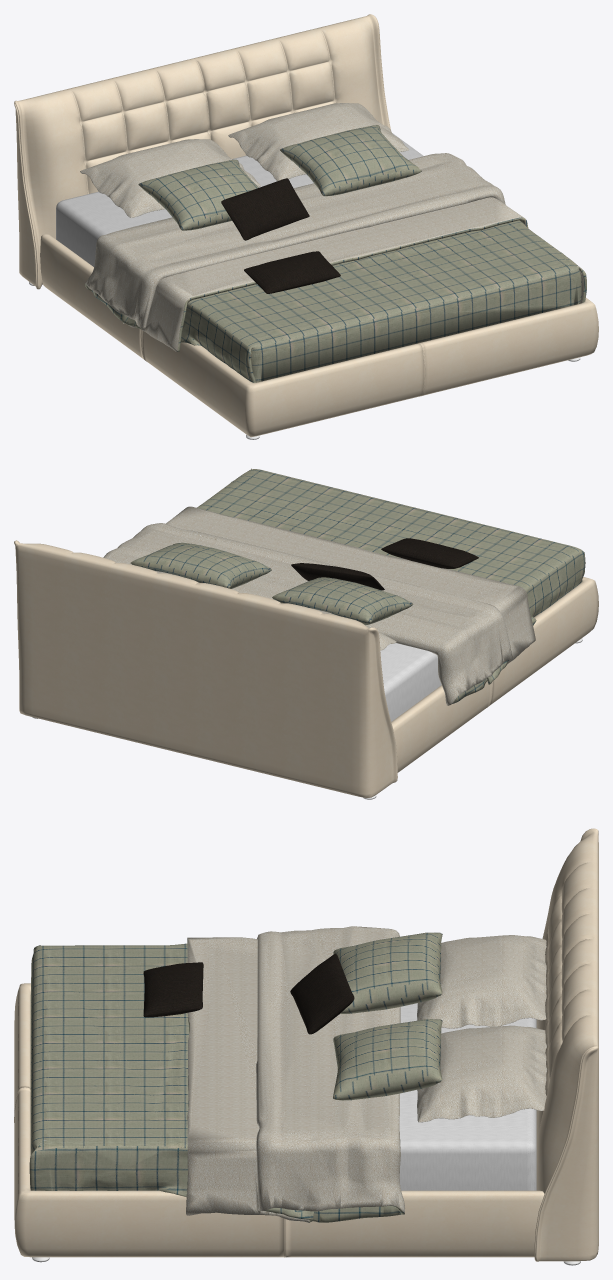
The model's file is morden-bed.glb.
3 views of the same model, one above another, from view 1: azimuth 30°, elevation 25°; view 2: azimuth 150°, elevation 25°; view 3: azimuth 270°, elevation 25° (orthographic). The views are drawn at different scales.
Visible parts, largest first — view 1: Cube.005, Cube.001, Cube.003, perna_mica.002, perna_infasata.001, perna_infasata.002, Cube.002, perna_mica.001, perna_medie.002, perna_medie; view 2: Cube.001, Cube.005, Cube.003, perna_mica.001, perna_mica.002, Cube.002, perna_medie, perna_medie.002; view 3: Cube.005, Cube.003, Cube.001, Cube.002, perna_infasata.002, perna_infasata.001, perna_mica.002, perna_mica.001, perna_medie.002, perna_medie.
Part boxes in pixels (<box>): Cube.005: <box>85,153,586,382</box>; Cube.001: <box>14,14,390,289</box>; Cube.003: <box>40,234,598,437</box>; perna_mica.002: <box>280,125,421,196</box>; perna_infasata.001: <box>80,139,260,217</box>; perna_infasata.002: <box>228,103,408,180</box>; Cube.002: <box>56,133,568,266</box>; perna_mica.001: <box>138,159,258,230</box>; perna_medie.002: <box>221,178,309,240</box>; perna_medie: <box>244,251,340,293</box>; Cube.001: <box>14,540,397,797</box>; Cube.005: <box>103,468,585,705</box>; Cube.003: <box>391,577,598,772</box>; perna_mica.001: <box>272,577,413,625</box>; perna_mica.002: <box>130,542,271,588</box>; Cube.002: <box>380,643,441,721</box>; perna_medie: <box>381,538,478,568</box>; perna_medie.002: <box>291,563,384,590</box>; Cube.005: <box>29,926,404,1222</box>; Cube.003: <box>14,983,544,1257</box>; Cube.001: <box>534,828,598,1261</box>; Cube.002: <box>44,1003,536,1190</box>; perna_infasata.002: <box>417,1025,547,1122</box>; perna_infasata.001: <box>417,935,546,1028</box>; perna_mica.002: <box>333,1019,442,1100</box>; perna_mica.001: <box>333,932,442,1013</box>; perna_medie.002: <box>290,953,354,1034</box>; perna_medie: <box>143,962,203,1017</box>.
Bounding box in the file's own units: 2.12 × 0.9534 × 2.26.
7 materials, 6 textured.
